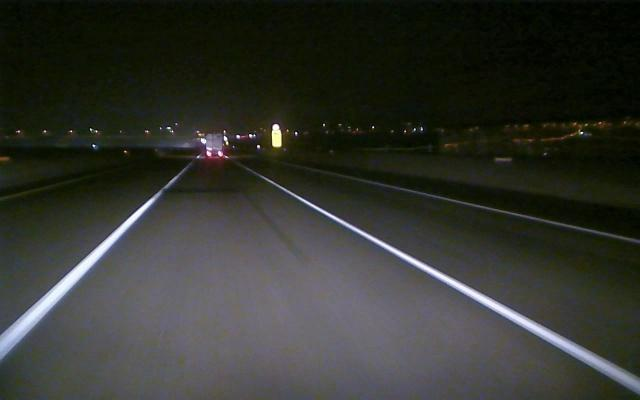lane: (265, 178, 637, 389), (3, 188, 162, 358), (369, 180, 640, 244)
